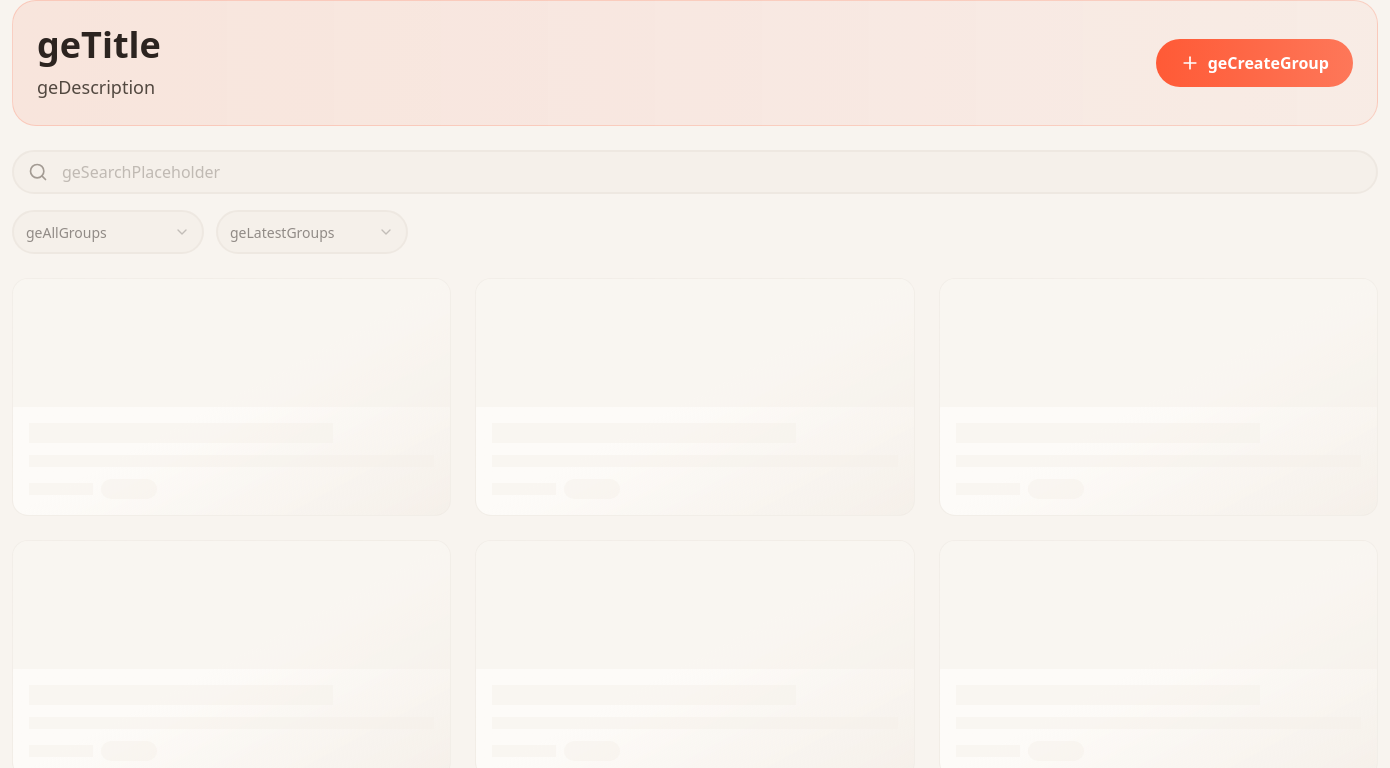
Test case: GroupsExploreGrid › does not let a stale explore response replace newer search results
Step 1. Type "new" into the field with placeholder "geSearchPlaceholder" → (695, 172), box [12,150,1378,194]
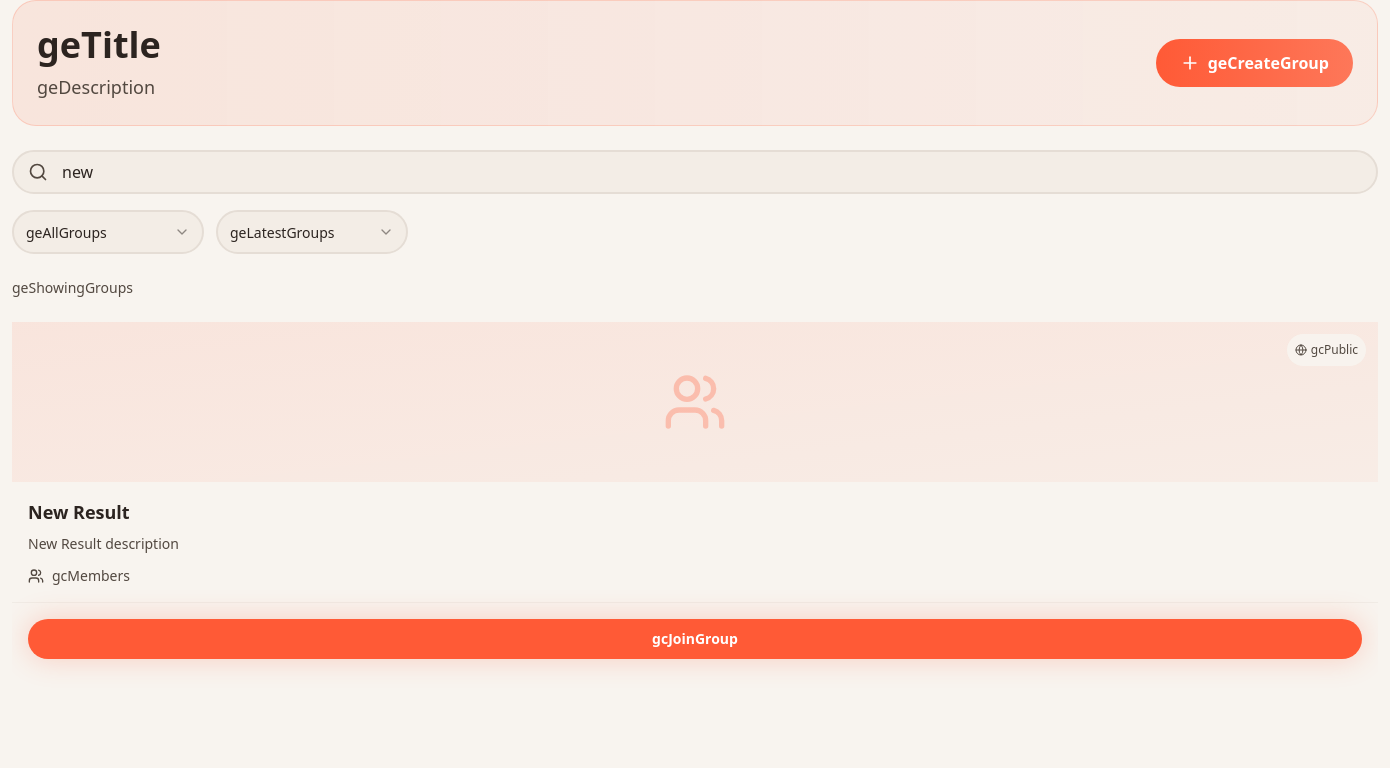
Expected: the heading "New Result" is shown, [28,500,130,524]
